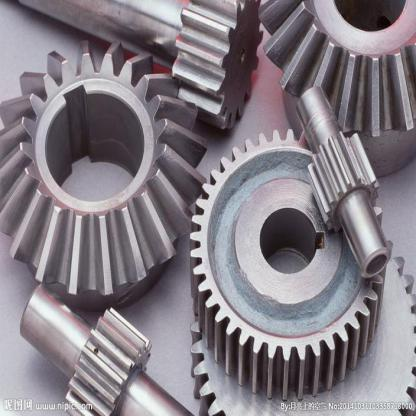FOD: (189, 115, 393, 399), (0, 31, 208, 308), (184, 231, 416, 415), (255, 0, 415, 147), (167, 0, 266, 140), (63, 302, 158, 415), (304, 126, 382, 233)
